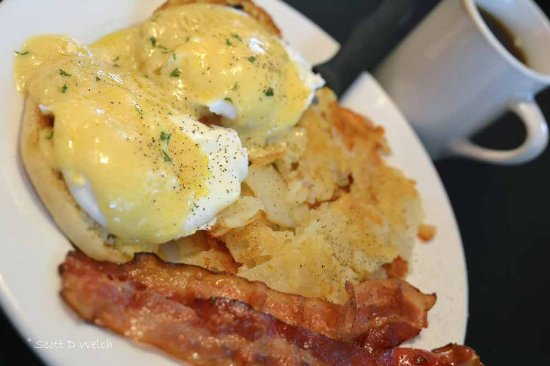pizza: (374, 1, 550, 169)
